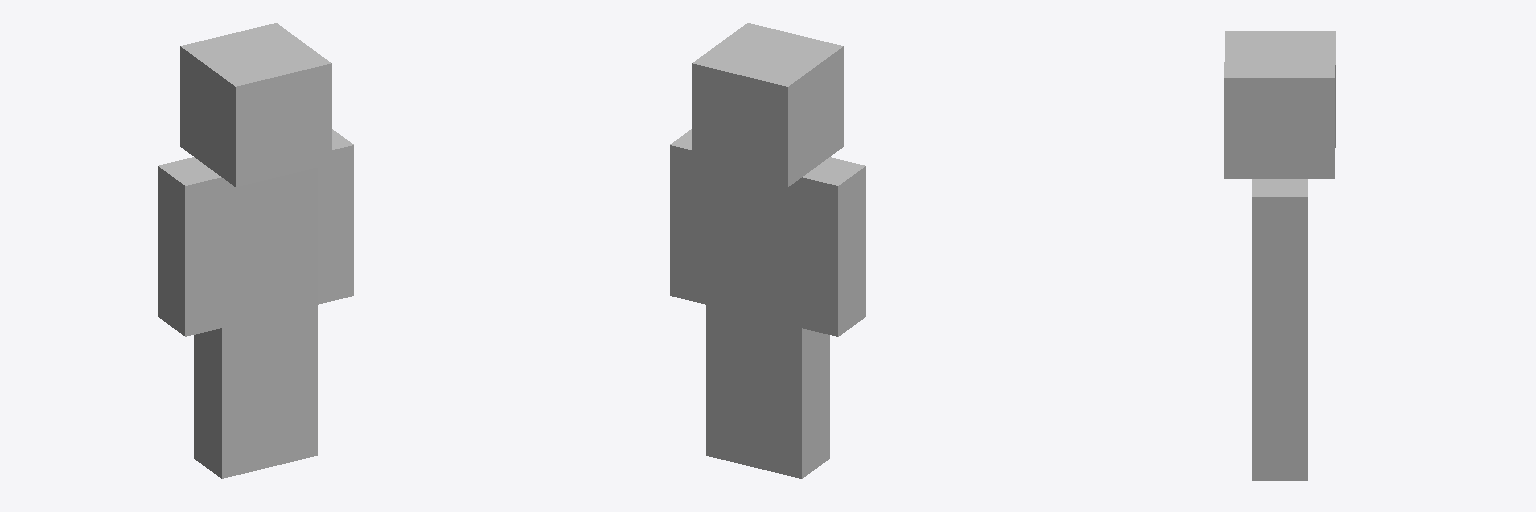
File: alex.obj
3 views of the same model, side by side, from view 1: azimuth 30°, elevation 25°; view 2: azimuth 150°, elevation 25°; view 3: azimuth 270°, elevation 25° (orthographic).
Parts seen in each view (by area): view 1: Object_7; view 2: Object_7; view 3: Object_7.
Part boxes in pixels (left/top/right/bottom): Object_7: left=158, top=23, right=353, bottom=478; Object_7: left=670, top=23, right=865, bottom=478; Object_7: left=1224, top=31, right=1335, bottom=480.
Size of the model in its own units: 0.3397 by 0.774 by 0.194.